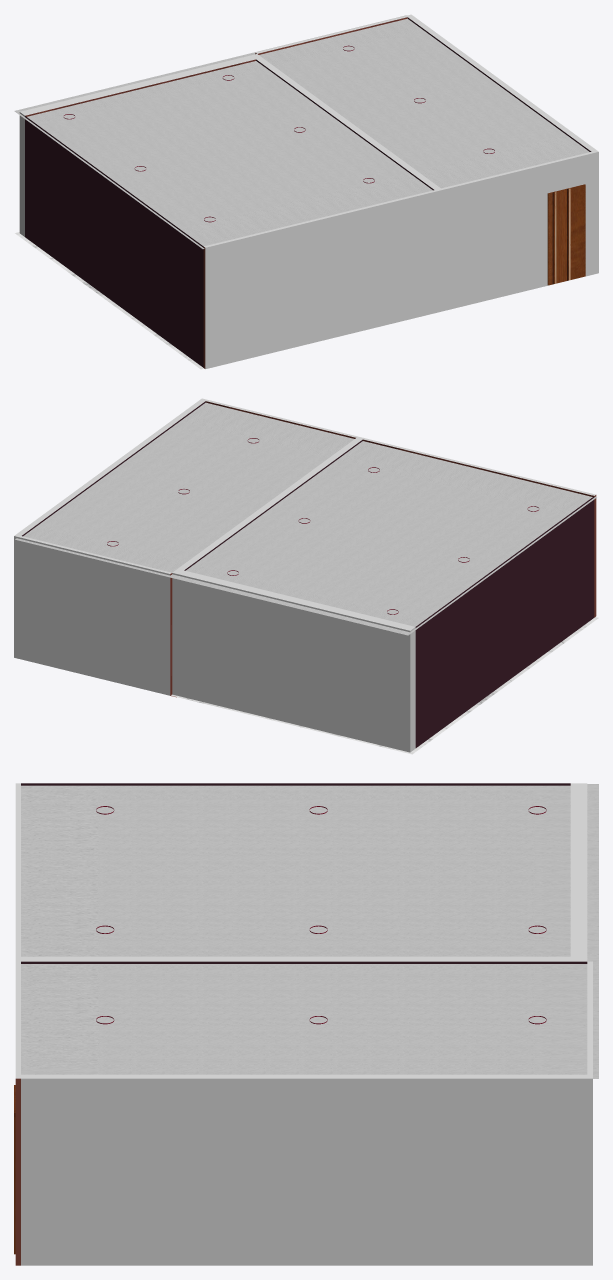
File: sala-mdl.glb
3 views of the same model, one above another, from view 1: azimuth 30°, elevation 25°; view 2: azimuth 150°, elevation 25°; view 3: azimuth 270°, elevation 25° (orthographic). The views are drawn at different scales.
Visible parts, largest first — view 1: paredes, teto, porta_1, piso; view 2: paredes, teto, piso; view 3: teto, paredes.
Part boxes in pixels (box(x1,y1,x2,y2)): paredes: box(19, 14, 598, 369); teto: box(14, 15, 589, 248); porta_1: box(547, 184, 585, 285); piso: box(15, 232, 203, 369); paredes: box(14, 398, 596, 752); teto: box(15, 402, 596, 635); piso: box(171, 617, 598, 754); teto: box(21, 784, 598, 1078); paredes: box(15, 783, 592, 1265).
Bounding box in the file's own units: 9.78 × 2.86 × 8.11.
Materials: 14 (6 with a texture image).
